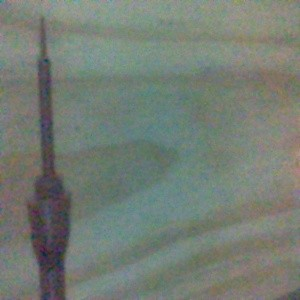solder: (25, 14, 72, 300)
